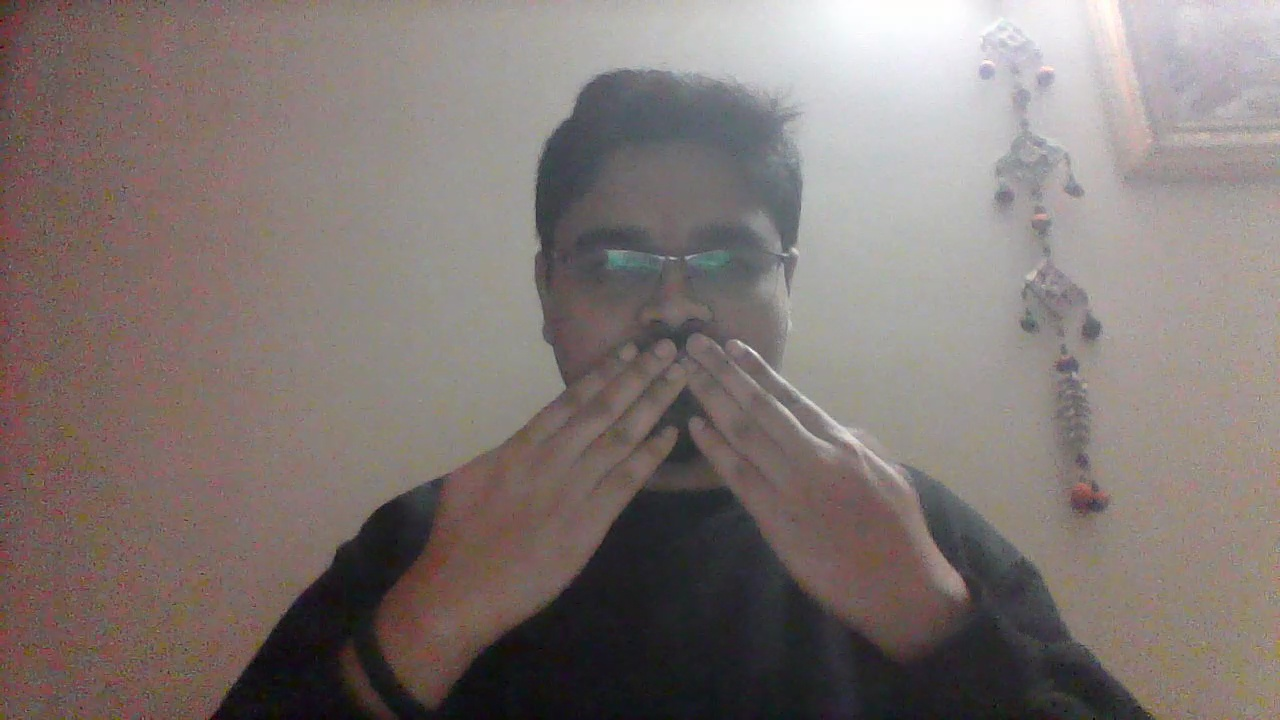Thanks: (408, 335, 956, 636)
